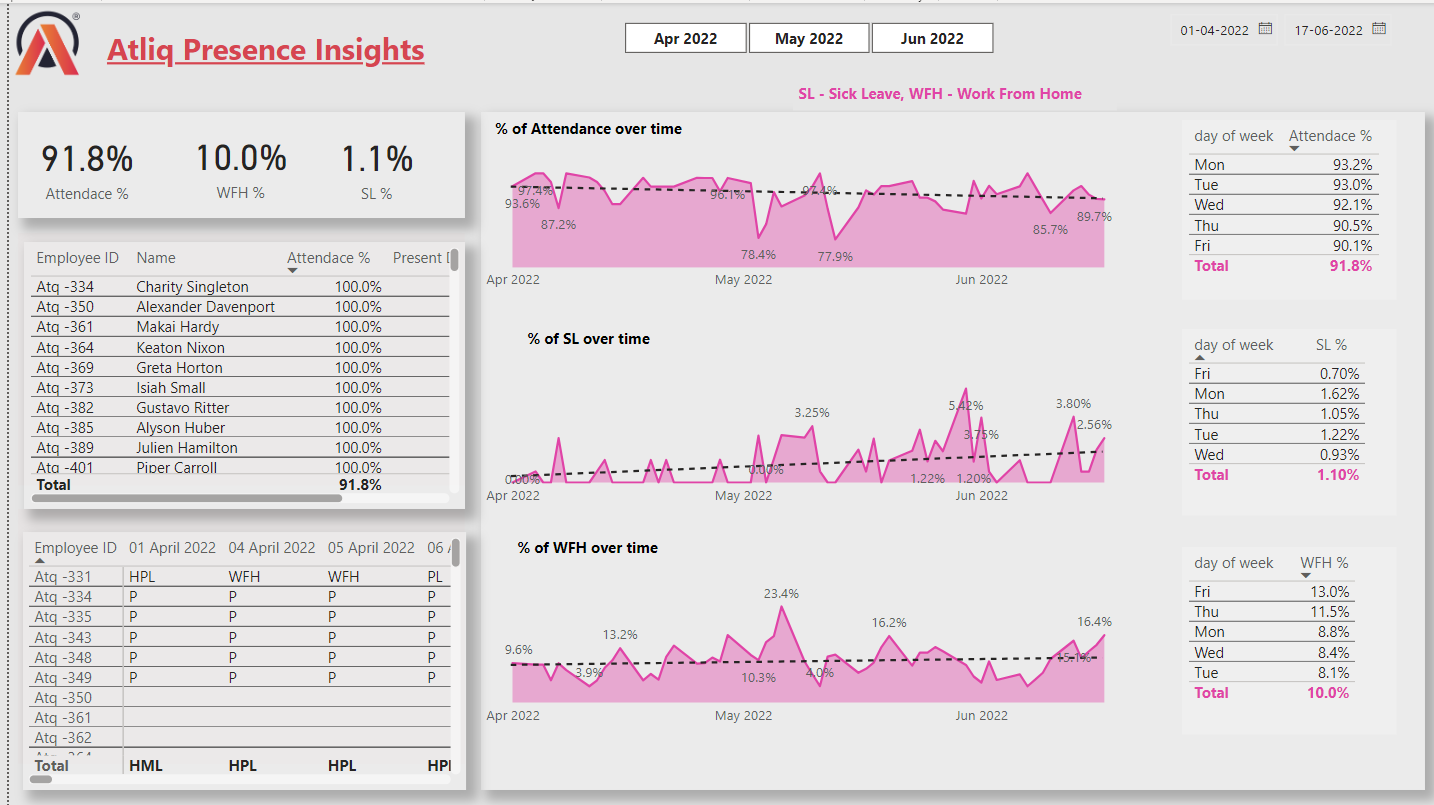

The dashboard page shown, as its layout file describes it:
{"tool":"powerbi","page":{"name":"Presence Insights","canvas":[1280,720],"ordinal":0},"visuals":[{"type":"textbox","box":[7.8,205.6,399.9,225.5],"z":0},{"type":"textbox","box":[7.8,453.3,399.8,227.6],"z":1000},{"type":"textbox","box":[422.7,97.6,845.4,607.2],"z":2000},{"type":"textbox","box":[7.8,98,399.9,95.4],"z":3000},{"type":"tableEx","fields":{"Values":["Final Data.Employee ID","Final Data.Name","Measures (2).Attendace %","Measures (2).Present Days","Measures (2).WFH %"]},"box":[13.4,214,394.9,239.1],"z":4000},{"type":"slicer","fields":{"Values":["Final Data.Date"]},"box":[1027.2,0,252.5,46.6],"z":5000},{"type":"slicer","fields":{"Values":["Final Data.MMM YY"]},"box":[525.7,10.7,379.7,35.8],"z":6000},{"type":"areaChart","fields":{"Category":["Final Data.MMM YY","Final Data.Date"],"Y":["Measures (2).WFH %"]},"box":[420.7,502.3,589,153.5],"z":7000},{"type":"areaChart","fields":{"Category":["Final Data.WeekNo","Final Data.Date"],"Y":["Measures (2).Attendace %"]},"box":[420.9,130.7,589.3,135.2],"z":8000},{"type":"card","fields":{"Values":["Measures (2).Attendace %"]},"box":[15.2,96.7,109.3,95.8],"z":9000},{"type":"card","fields":{"Values":["Measures (2).WFH %"]},"box":[137.9,95.8,138.8,96.7],"z":10000},{"type":"areaChart","fields":{"Category":["Final Data.MMM YY","Final Data.Date"],"Y":["Measures (2).SL %"]},"box":[420.9,322.4,589.3,137],"z":11000},{"type":"image","box":[0,0,69.9,70.7],"z":12000},{"type":"card","fields":{"Values":["Measures (2).SL %"]},"box":[268.7,96.7,120.9,95.8],"z":13000},{"type":"textbox","box":[70.3,0,320.1,71.1],"z":14000},{"type":"textbox","box":[422.4,98.2,192.5,27.5],"z":15000},{"type":"textbox","box":[422.5,286.3,192.6,26.9],"z":16000},{"type":"textbox","box":[422.1,473.7,192.6,27.2],"z":17000},{"type":"pivotTable","fields":{"Rows":["Final Data.Employee ID"],"Columns":["Final Data.Date"],"Values":["Final Data.Value"]},"box":[12.5,473.7,396.7,231],"z":18000},{"type":"textbox","box":[702.1,67.2,290.1,28.7],"z":19000},{"type":"tableEx","fields":{"Values":["Final Data.day of week","Measures (2).Attendace %"]},"box":[1050.4,104.8,191.6,161.2],"z":20000},{"type":"tableEx","fields":{"Values":["Final Data.day of week","Measures (2).SL %"]},"box":[1050.4,291.9,191.6,167.5],"z":21000},{"type":"tableEx","fields":{"Values":["Final Data.day of week","Measures (2).WFH %"]},"box":[1050.4,487.2,191.6,168.4],"z":22000}]}

Visuals, with their boxes in screenshot pixels (x1, y1, x2, y2), scaled from the page's 1280x720 canvas onto the 1434x805 screenshot:
textbox: select_region(9, 230, 457, 482)
textbox: select_region(9, 507, 457, 761)
textbox: select_region(474, 109, 1421, 788)
textbox: select_region(9, 110, 457, 216)
tableEx - Final Data.Employee ID x Final Data.Name: select_region(15, 239, 457, 507)
slicer - Final Data.Date: select_region(1151, 0, 1433, 52)
slicer - Final Data.MMM YY: select_region(589, 12, 1014, 52)
areaChart - Final Data.MMM YY x Final Data.Date: select_region(471, 562, 1131, 733)
areaChart - Final Data.WeekNo x Final Data.Date: select_region(472, 146, 1132, 297)
card - Measures (2).Attendace %: select_region(17, 108, 139, 215)
card - Measures (2).WFH %: select_region(154, 107, 310, 215)
areaChart - Final Data.MMM YY x Final Data.Date: select_region(472, 360, 1132, 514)
image: select_region(0, 0, 78, 79)
card - Measures (2).SL %: select_region(301, 108, 436, 215)
textbox: select_region(79, 0, 437, 79)
textbox: select_region(473, 110, 689, 141)
textbox: select_region(473, 320, 689, 350)
textbox: select_region(473, 530, 689, 560)
pivotTable - Final Data.Employee ID x Final Data.Date: select_region(14, 530, 458, 788)
textbox: select_region(787, 75, 1112, 107)
tableEx - Final Data.day of week x Measures (2).Attendace %: select_region(1177, 117, 1391, 297)
tableEx - Final Data.day of week x Measures (2).SL %: select_region(1177, 326, 1391, 514)
tableEx - Final Data.day of week x Measures (2).WFH %: select_region(1177, 545, 1391, 733)
